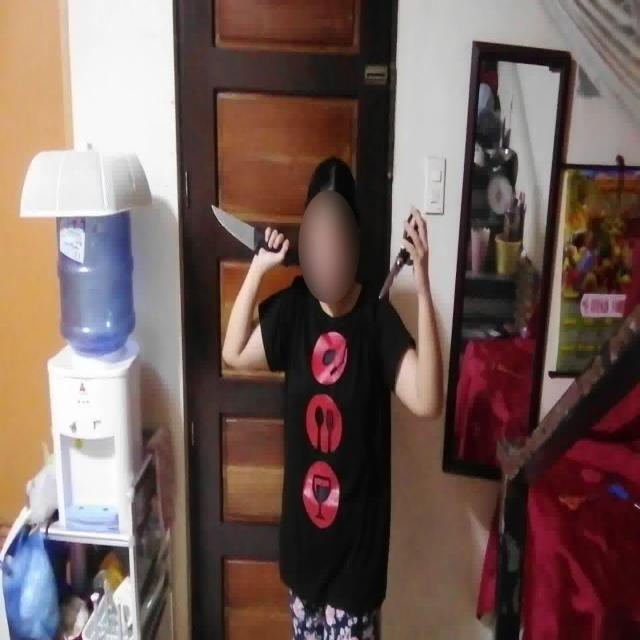scissor: (377, 211, 425, 300)
